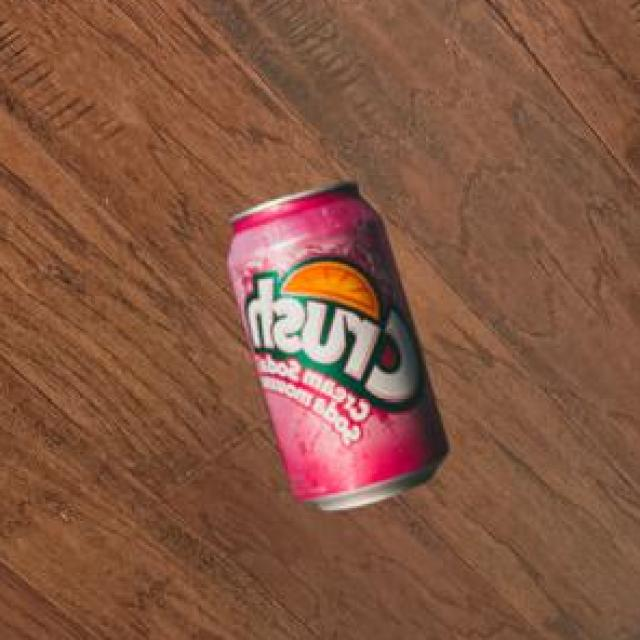logam: (224, 185, 444, 514)
